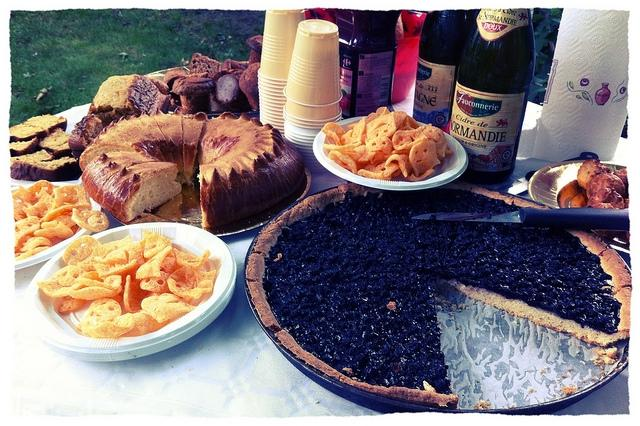blueberry: (494, 284, 514, 299), (341, 336, 359, 348), (592, 315, 608, 328), (262, 280, 276, 292), (318, 270, 334, 280), (340, 262, 354, 273), (539, 301, 554, 310), (518, 291, 530, 302), (347, 362, 358, 374), (315, 342, 326, 353), (400, 357, 408, 371), (338, 321, 350, 330), (302, 320, 314, 328), (422, 292, 434, 300), (378, 278, 388, 287), (421, 274, 430, 284), (360, 304, 370, 313), (469, 270, 477, 280), (448, 268, 458, 276), (282, 228, 290, 238), (524, 276, 536, 282), (378, 330, 387, 338), (554, 245, 563, 253), (290, 310, 298, 319), (372, 250, 382, 257), (384, 237, 394, 244), (350, 287, 360, 294), (497, 262, 508, 268), (486, 281, 494, 289), (266, 268, 274, 276), (442, 198, 450, 206), (320, 304, 328, 312), (343, 213, 352, 220), (602, 307, 612, 313), (574, 252, 584, 258), (534, 256, 544, 262), (579, 294, 589, 300), (551, 260, 561, 266), (318, 210, 328, 216), (518, 228, 528, 234), (568, 310, 576, 317), (556, 287, 564, 294), (467, 224, 476, 230), (393, 271, 400, 278), (428, 368, 436, 374), (434, 342, 442, 348), (407, 330, 415, 336), (574, 269, 582, 275), (324, 228, 332, 234), (520, 250, 527, 256), (432, 243, 439, 249), (389, 196, 396, 202), (424, 233, 432, 238), (454, 237, 459, 245), (290, 296, 298, 301), (402, 290, 408, 296), (364, 220, 370, 226), (306, 273, 312, 279), (404, 222, 410, 228), (460, 253, 466, 259), (362, 272, 368, 278), (452, 220, 458, 226), (310, 256, 316, 262), (328, 249, 334, 255), (285, 255, 290, 261), (388, 212, 393, 218), (423, 250, 428, 256), (405, 310, 409, 317), (378, 357, 384, 361), (596, 280, 602, 284), (378, 311, 384, 315), (488, 234, 493, 238), (412, 198, 417, 202), (348, 239, 353, 243), (299, 249, 303, 254), (538, 238, 542, 242), (504, 245, 508, 249), (367, 204, 371, 208), (386, 261, 388, 264)
